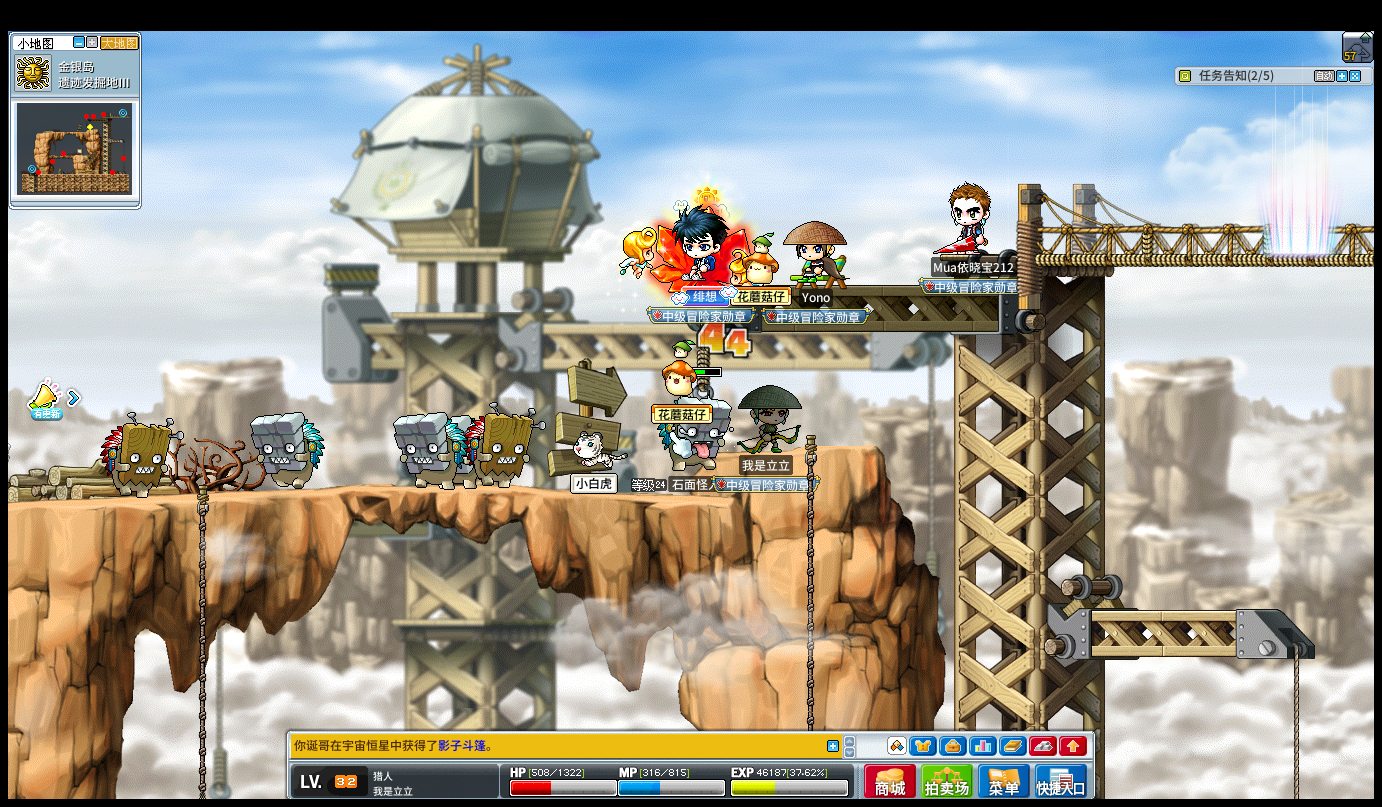floor: (20, 480, 788, 506), (42, 483, 765, 499), (1091, 607, 1289, 620)
monster: (100, 413, 183, 499), (463, 405, 542, 488), (249, 411, 325, 491), (656, 396, 731, 475), (392, 410, 464, 490)
rope: (193, 479, 207, 802), (802, 443, 817, 728), (1289, 654, 1302, 789)
